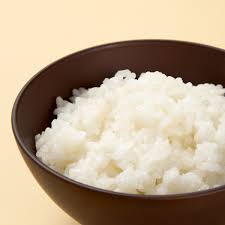ssalbab: (31, 67, 225, 197)
